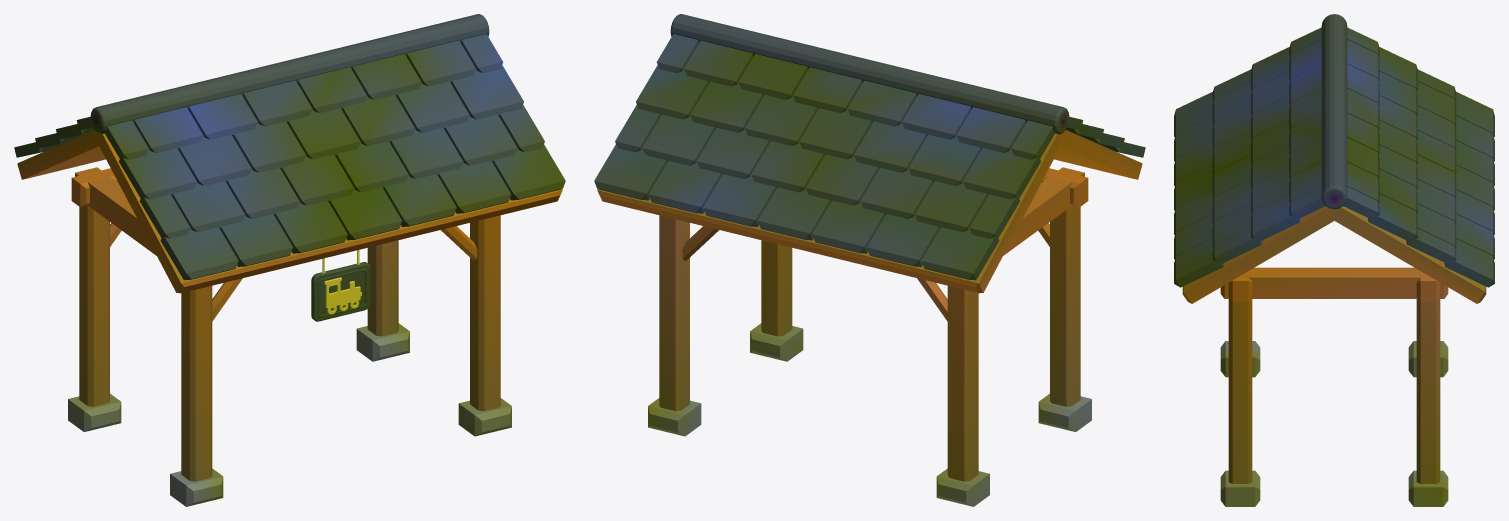
File: Prop_Shelter.fbx
The picture shows the model from 3 angles, left to right: view 1: azimuth 30°, elevation 25°; view 2: azimuth 150°, elevation 25°; view 3: azimuth 270°, elevation 25°; orthographic projection. The views are drawn at different scales.
Visible parts, largest first — view 1: Prop_Shelter; view 2: Prop_Shelter; view 3: Prop_Shelter.
Boxes of the visible parts, <box> form: Prop_Shelter: <box>14,14,565,506</box>; Prop_Shelter: <box>594,14,1145,506</box>; Prop_Shelter: <box>1174,14,1494,506</box>.
Bounding box in the file's own units: 4.16 × 3.72 × 3.24.
